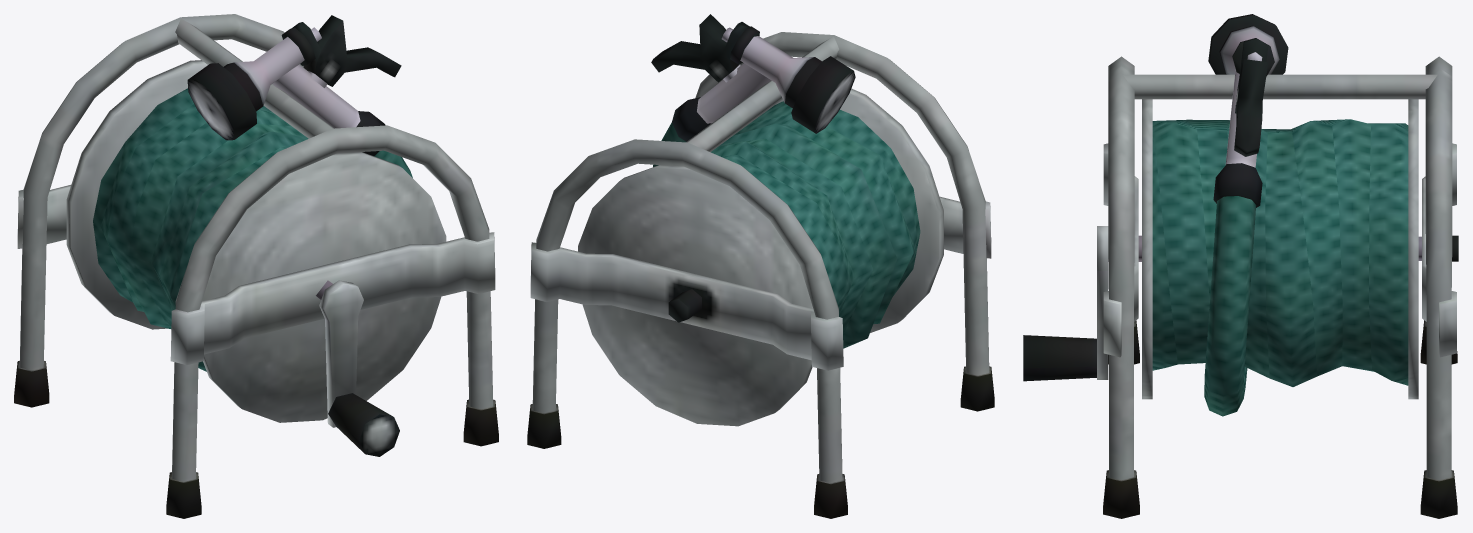
The picture shows the model from 3 angles, left to right: view 1: azimuth 30°, elevation 25°; view 2: azimuth 150°, elevation 25°; view 3: azimuth 270°, elevation 25°; orthographic projection. The views are drawn at different scales.
Size of the model in its own units: 6.41 by 7.3 by 6.97.
1 material, 1 textured.
